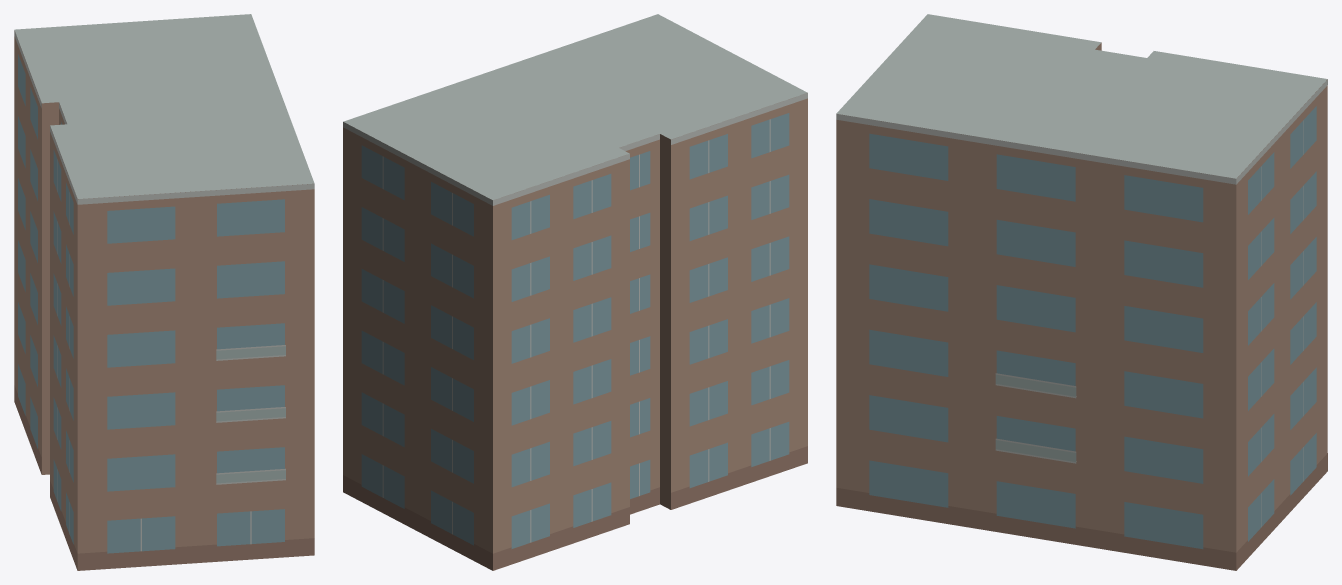
The model's file is survey-upis-32871843.glb.
The picture shows the model from 3 angles, left to right: view 1: azimuth 30°, elevation 25°; view 2: azimuth 150°, elevation 25°; view 3: azimuth 270°, elevation 25°; orthographic projection. The views are drawn at different scales.
Parts seen in each view (by area): view 1: survey-upis-32871843.tmp; view 2: survey-upis-32871843.tmp; view 3: survey-upis-32871843.tmp.
Part boxes in pixels (x1,y1,x2,y2): survey-upis-32871843.tmp: (14,14,314,570); survey-upis-32871843.tmp: (343,14,807,570); survey-upis-32871843.tmp: (836,14,1327,570).
Size of the model in its own units: 14.47 by 16.05 by 18.24.
